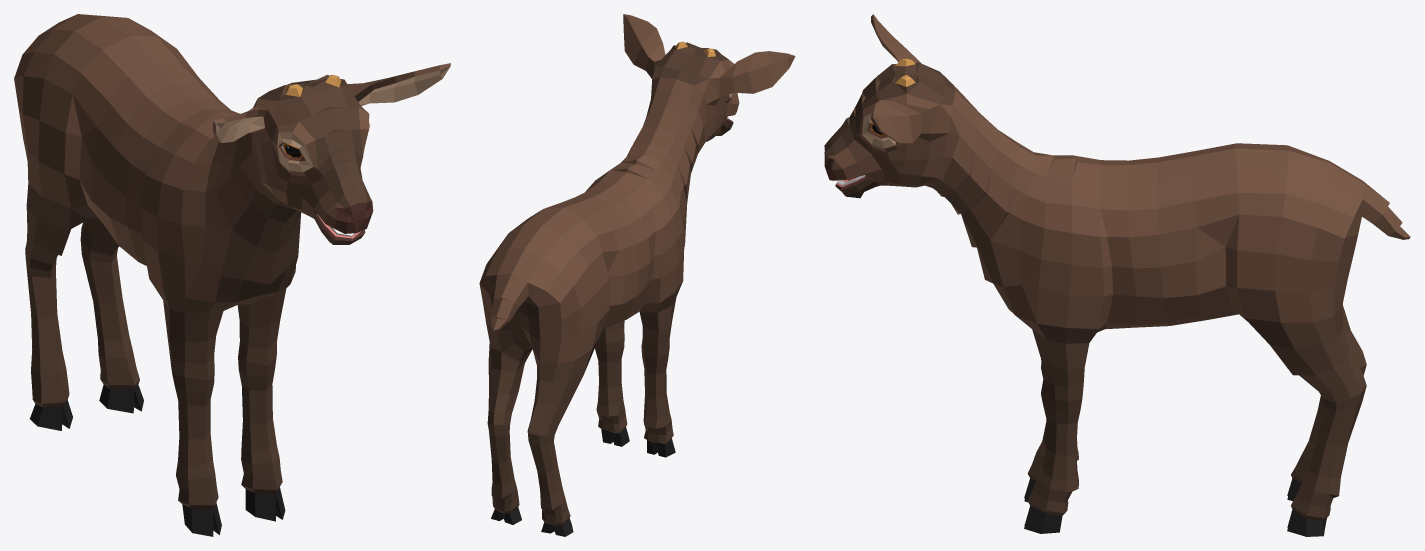
Rendered from LowPoly_Goatling_6.obj.
The picture shows the model from 3 angles, left to right: view 1: azimuth 30°, elevation 25°; view 2: azimuth 150°, elevation 25°; view 3: azimuth 270°, elevation 25°; orthographic projection. The views are drawn at different scales.
Visible parts, largest first — view 1: Goatling_6_Cube.007; view 2: Goatling_6_Cube.007; view 3: Goatling_6_Cube.007.
Boxes of the visible parts, x1,y1,x2,y2 form: Goatling_6_Cube.007: [14, 14, 450, 536]; Goatling_6_Cube.007: [479, 14, 795, 536]; Goatling_6_Cube.007: [824, 14, 1410, 536].
Size of the model in its own units: 0.2081 by 0.4165 by 0.4937.
